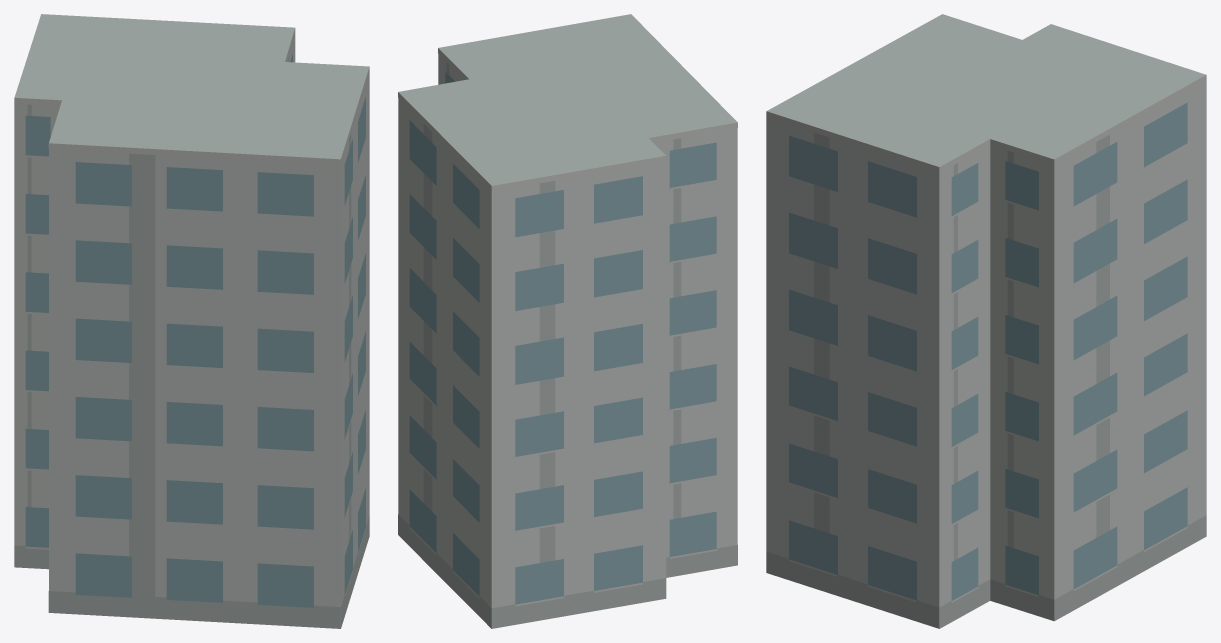
File: survey-upis-32886985.glb
The picture shows the model from 3 angles, left to right: view 1: azimuth 30°, elevation 25°; view 2: azimuth 150°, elevation 25°; view 3: azimuth 270°, elevation 25°; orthographic projection. The views are drawn at different scales.
Parts seen in each view (by area): view 1: survey-upis-32886985.tmp; view 2: survey-upis-32886985.tmp; view 3: survey-upis-32886985.tmp.
Boxes of the visible parts, <box> form: survey-upis-32886985.tmp: <box>14,14,369,628</box>; survey-upis-32886985.tmp: <box>398,14,737,628</box>; survey-upis-32886985.tmp: <box>766,14,1206,628</box>.
Size of the model in its own units: 13.48 by 18.93 by 16.36.
